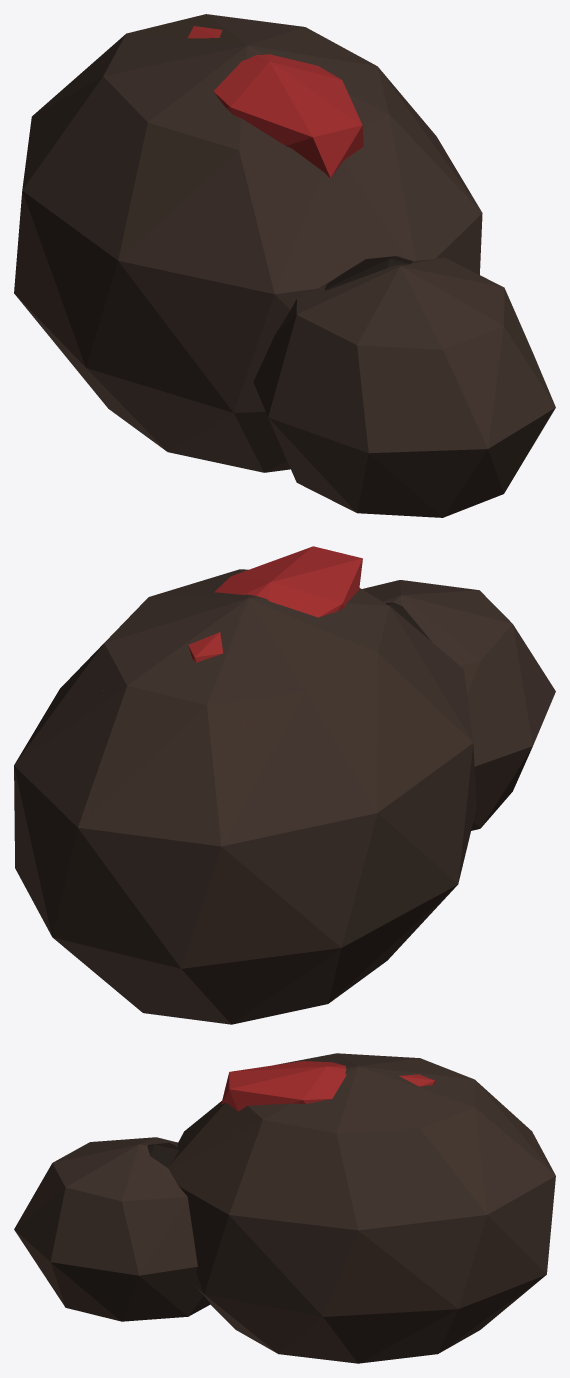
Rendered from spider_0_body.glb.
3 renders of one model, top to bottom at view 1: azimuth 30°, elevation 25°; view 2: azimuth 150°, elevation 25°; view 3: azimuth 270°, elevation 25°, orthographic. The views are drawn at different scales.
Visible parts, largest first — view 1: spider_0_body; view 2: spider_0_body; view 3: spider_0_body.
Part boxes in pixels (x1,y1,x2,y2): spider_0_body: [14, 14, 555, 517]; spider_0_body: [14, 546, 555, 1024]; spider_0_body: [14, 1053, 555, 1363].
Bounding box in the file's own units: 0.3964 × 0.4 × 0.6929.
